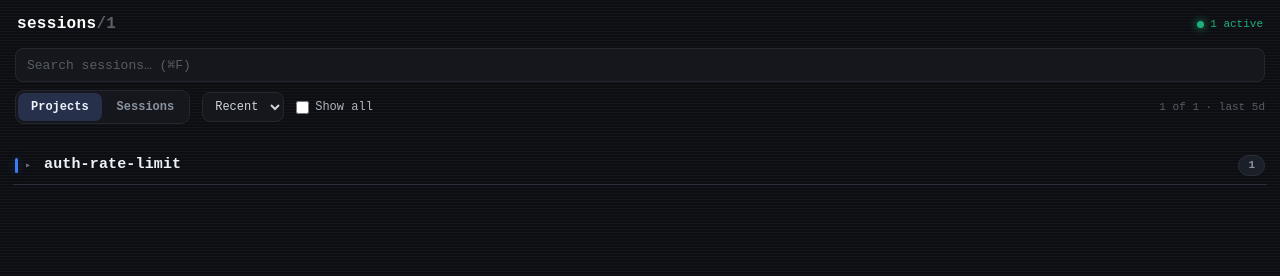
Scenario: DashboardPage › a finished session should be resolvable from its row — that is the point of the board › exposes inline commit/PR quick-actions on a done row
// Tiles (and their quick-actions) live under the flat Sessions tab.
Click the tab "Sessions" at [145, 107], box [104,93,187,121]
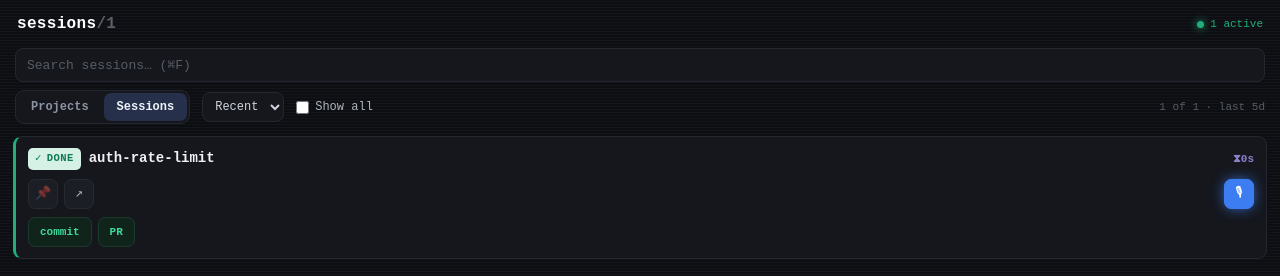
Now the text "DONE" is shown, box [47,152,74,164]
Now the button "commit" is shown, box [28,217,92,247]
Now the button "PR" is shown, box [98,217,135,247]
